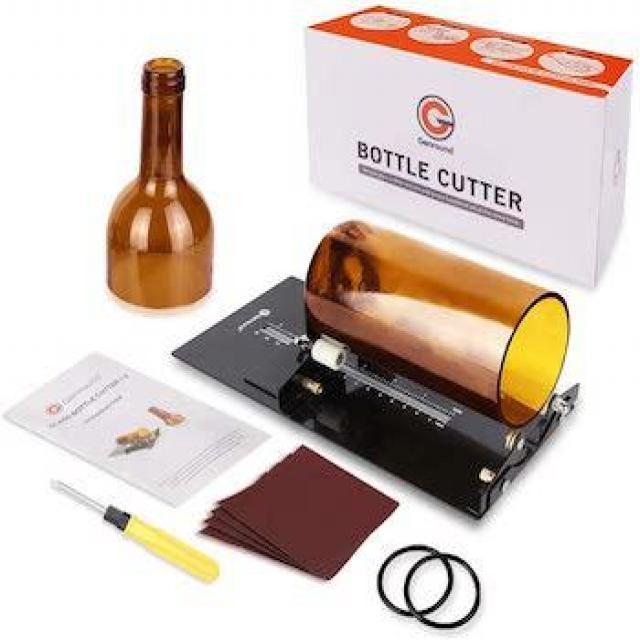glass: (102, 51, 216, 314)
